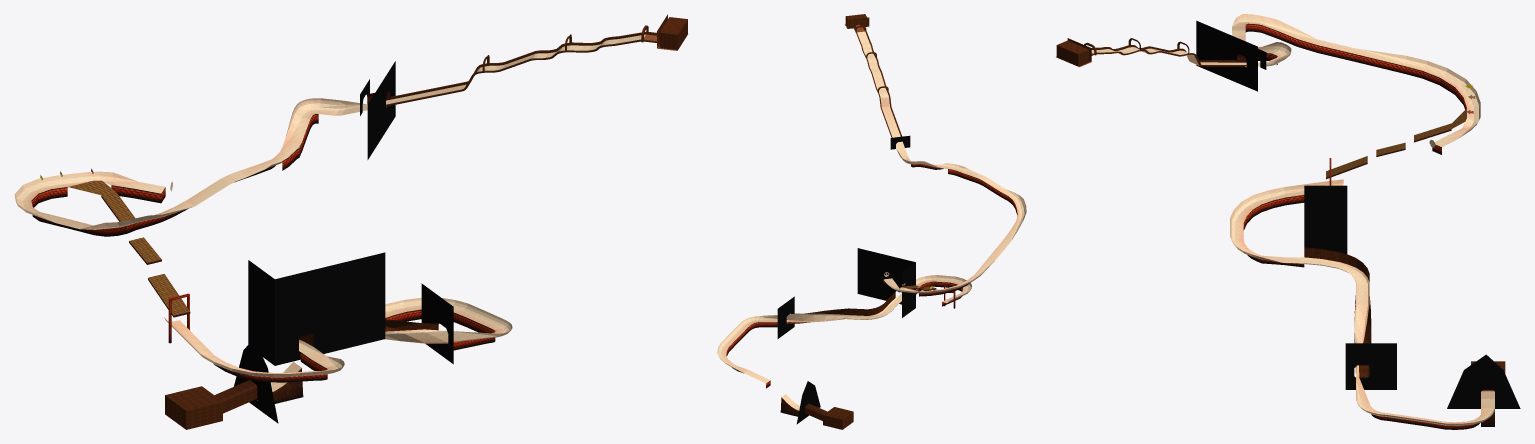
Rendered from high_slider_all.glb.
3 renders of one model, left to right at view 1: azimuth 30°, elevation 25°; view 2: azimuth 150°, elevation 25°; view 3: azimuth 270°, elevation 25°, orthographic. The views are drawn at different scales.
Parts seen in each view (by area): view 1: high_slider_all; view 2: high_slider_all; view 3: high_slider_all.
Boxes of the visible parts, box(x1,y1,x2,y2) form: high_slider_all: box(14, 14, 687, 429); high_slider_all: box(717, 14, 1026, 429); high_slider_all: box(1056, 14, 1520, 429).
Size of the model in its own units: 12.76 by 13.75 by 13.56.
7 materials, 6 textured.
